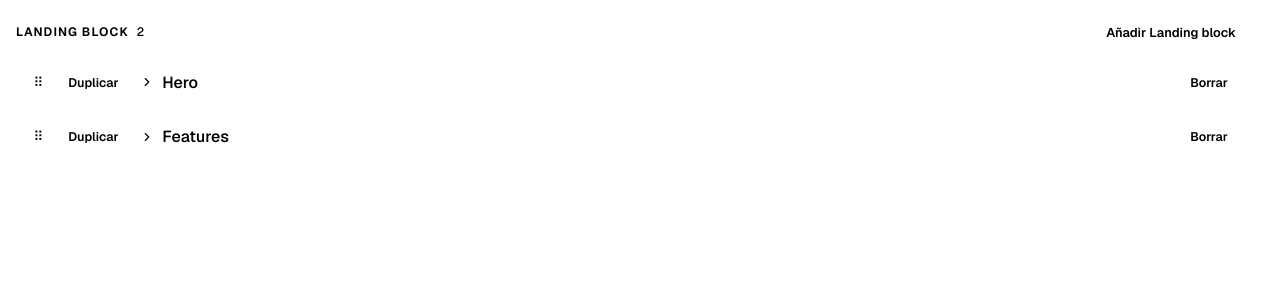
Test: RecordBlocks.svelte › un guardado diferido bloquea altas y reorden hasta reasentar el bloque
Click the button "Hero" at [180, 82], box [136,69,1173,96]
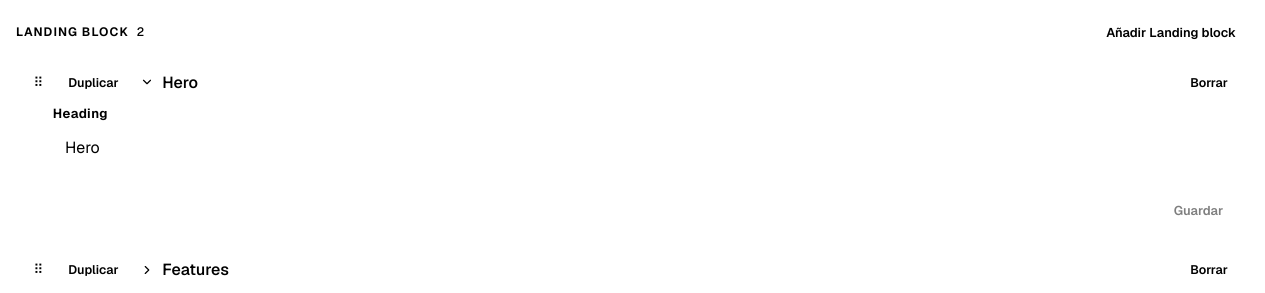
Replace the text in the field labelled "Heading" with "Hero guardado" at [644, 148], box [53,127,1236,168]
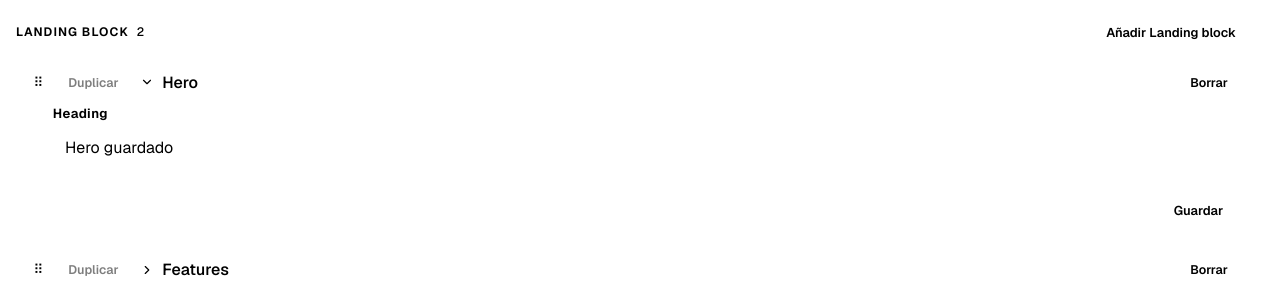
Click the button "Guardar" at [1198, 211], box [1161,196,1236,226]
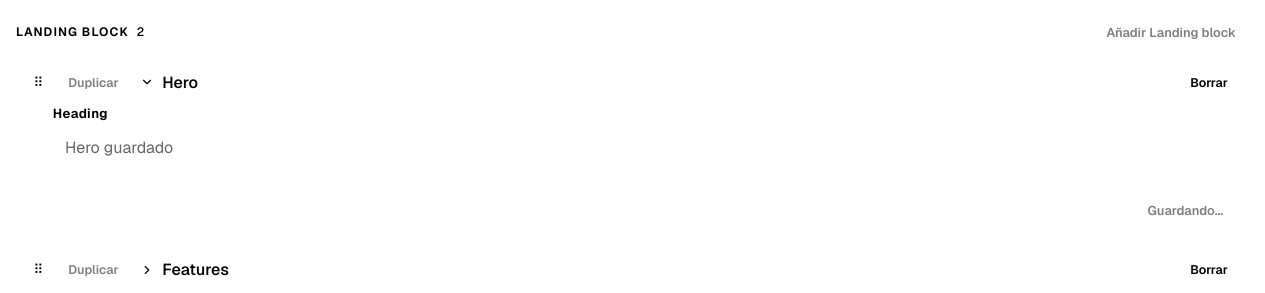
Expected: the 1st button "⠿" is disabled, [26,70,51,95]
Expected: the button "Añadir Landing block" is disabled
Click the button "Añadir Landing block" at [1171, 32], box [1094,16,1248,48]
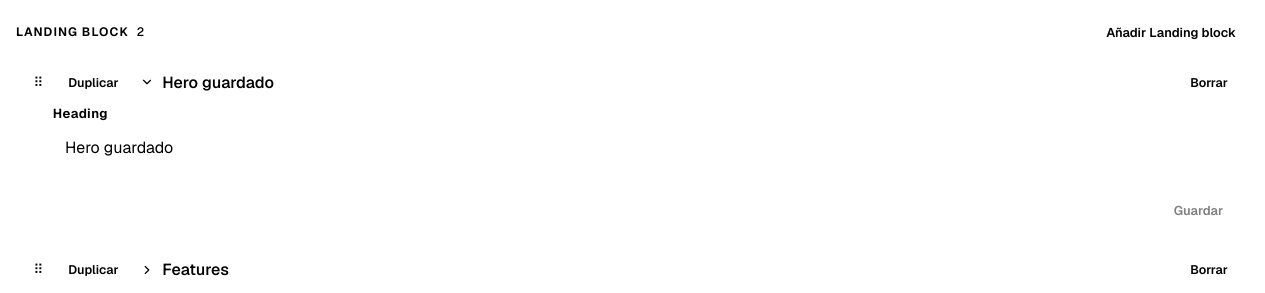
Expected: the button "Añadir Landing block" is enabled, [1094,16,1248,48]
